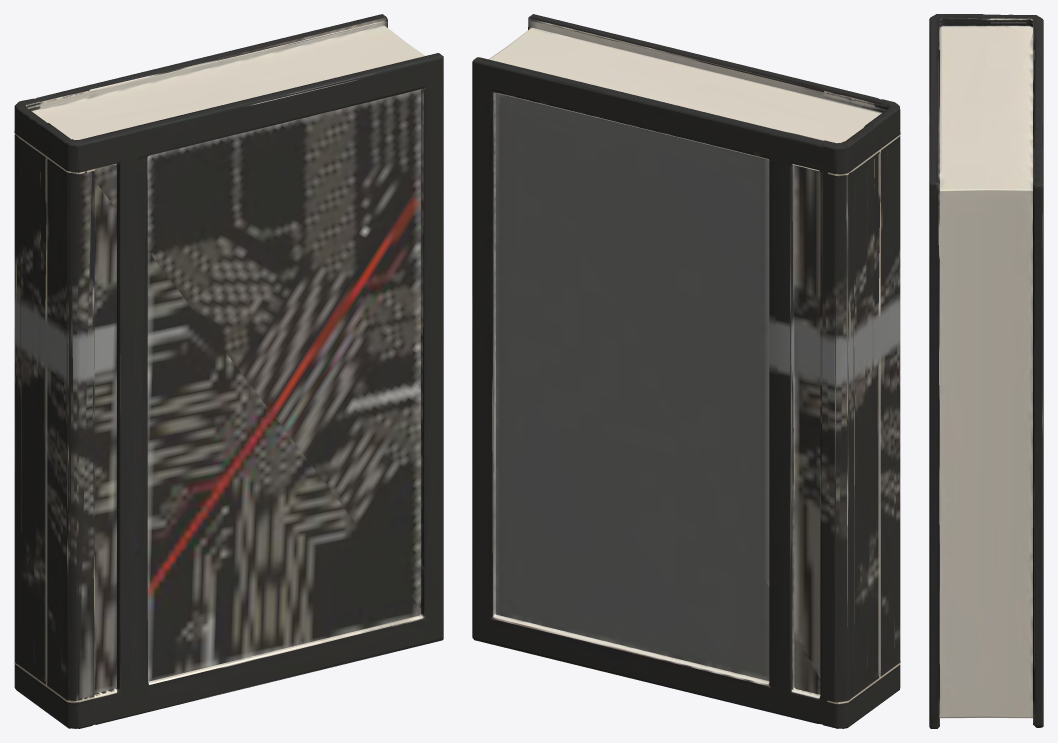
Rendered from the-big-score.glb.
3 renders of one model, left to right at view 1: azimuth 30°, elevation 25°; view 2: azimuth 150°, elevation 25°; view 3: azimuth 270°, elevation 25°, orthographic. The views are drawn at different scales.
Visible parts, largest first — view 1: The Big Score; view 2: The Big Score; view 3: The Big Score.
Boxes of the visible parts, left/top/right/bottom form: The Big Score: left=14, top=14, right=443, bottom=728; The Big Score: left=472, top=14, right=900, bottom=728; The Big Score: left=929, top=14, right=1043, bottom=728.
Bounding box in the file's own units: 0.666 × 0.998 × 0.1895.
Materials: 1 (1 with a texture image).
